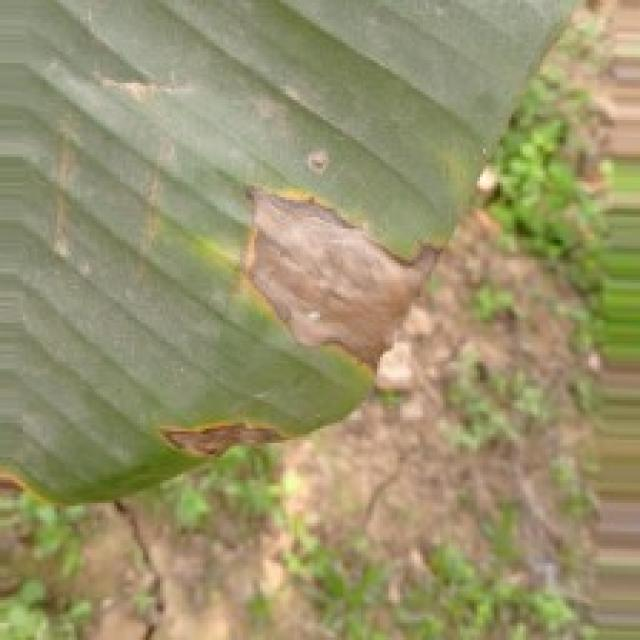Bacterial_spot: (213, 176, 449, 392), (133, 409, 305, 479), (0, 457, 58, 503), (302, 138, 343, 182)
